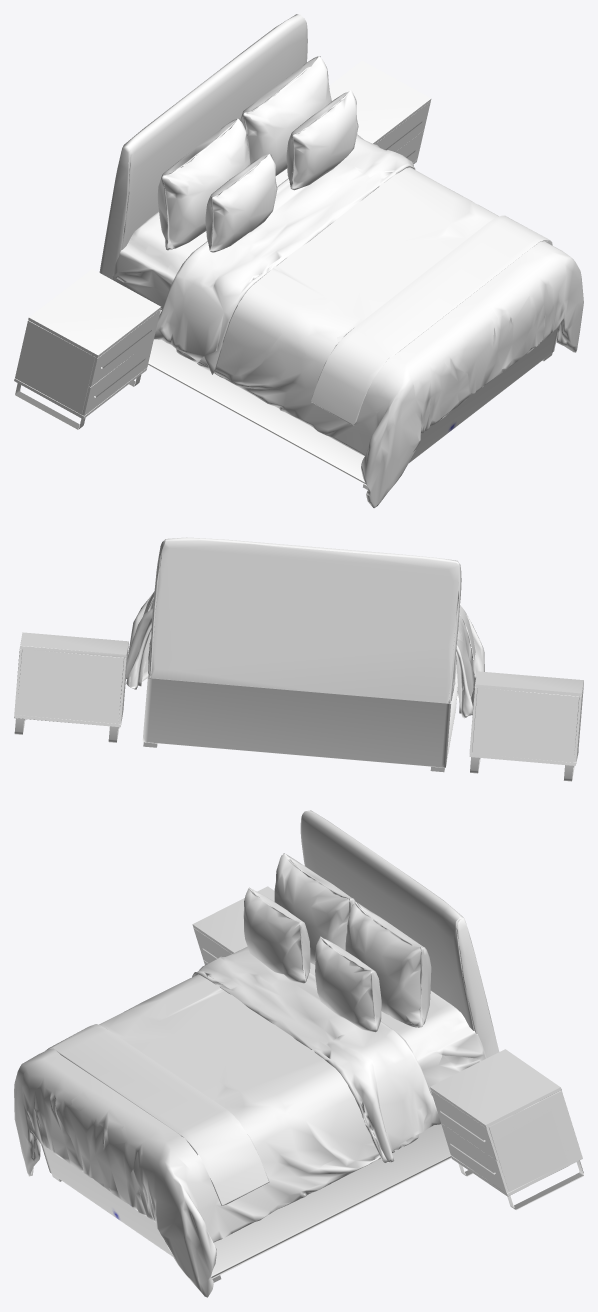
The picture shows the model from 3 angles, top to bottom: view 1: azimuth 30°, elevation 25°; view 2: azimuth 150°, elevation 25°; view 3: azimuth 270°, elevation 25°; orthographic projection. The views are drawn at different scales.
Parts seen in each view (by area): view 1: node_id10, node_id6, node_id7, node_id4, node_id9, node_id8, node_id5; view 2: node_id6, node_id5, node_id4, node_id10, node_id7; view 3: node_id10, node_id6, node_id7, node_id9, node_id5, node_id4, node_id8.
Boxes of the visible parts, left/top/right/bottom form: node_id10: left=112, top=134, right=583, bottom=508; node_id6: left=99, top=14, right=557, bottom=485; node_id7: left=311, top=215, right=552, bottom=425; node_id4: left=14, top=60, right=552, bottom=489; node_id9: left=157, top=56, right=331, bottom=250; node_id8: left=205, top=90, right=358, bottom=252; node_id5: left=15, top=101, right=430, bottom=415; node_id6: left=142, top=537, right=461, bottom=767; node_id5: left=14, top=647, right=583, bottom=762; node_id4: left=14, top=632, right=583, bottom=781; node_id10: left=126, top=593, right=484, bottom=718; node_id7: left=143, top=591, right=475, bottom=660; node_id10: left=14, top=946, right=486, bottom=1297; node_id6: left=41, top=810, right=499, bottom=1278; node_id7: left=45, top=1024, right=269, bottom=1205; node_id9: left=274, top=853, right=431, bottom=1027; node_id5: left=193, top=928, right=581, bottom=1193; node_id4: left=52, top=886, right=583, bottom=1282; node_id8: left=243, top=887, right=381, bottom=1032.
Size of the model in its own units: 0.1617 by 0.0922 by 0.1449.
Materials: 7 (1 with a texture image).
